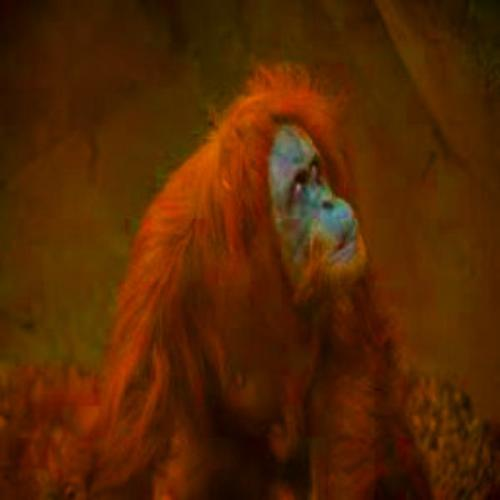orangutan-endangered: (124, 77, 412, 489)
